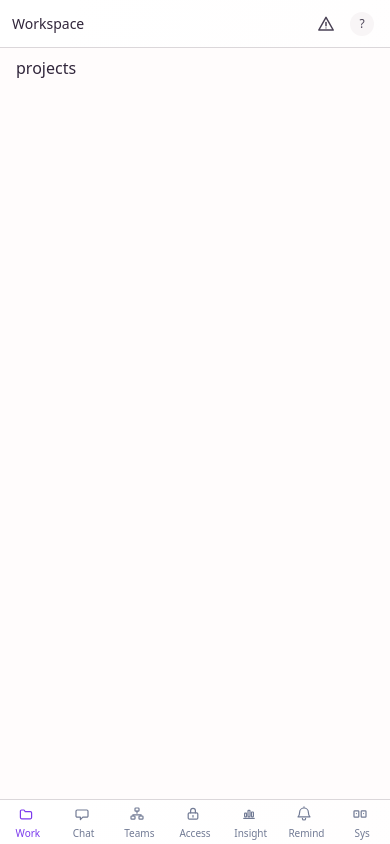
it: Mobile Attention bottom sheet › tapping the bell toggles the attention panel open, closed on second tap
Click the button with test id "mobile-alerts". click: (326, 24)
box: [310,8,342,40]
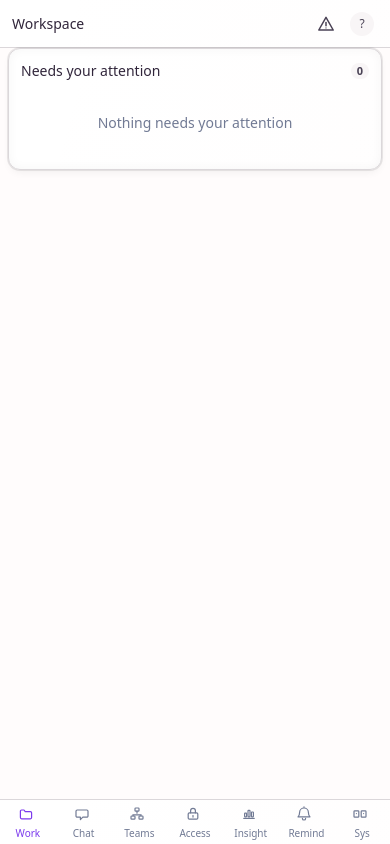
Expected: the element with test id "mobile-alerts-panel" is shown, [8,48,382,170]
Click the button with test id "mobile-alerts". click: (326, 24)
box: [310,8,342,40]
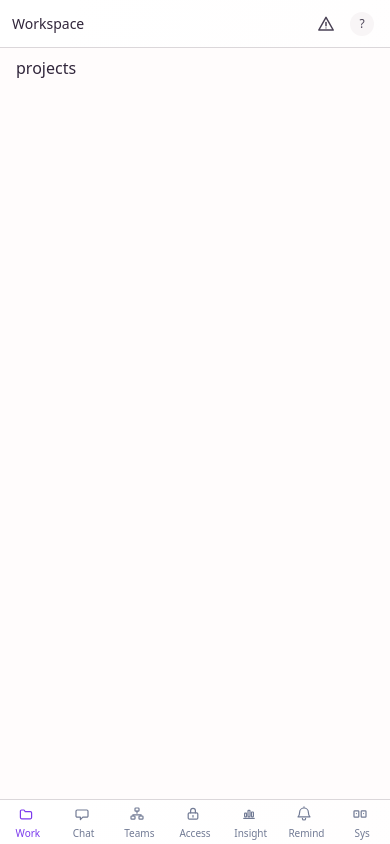
Expected: the element with test id "mobile-alerts-panel" is gone
